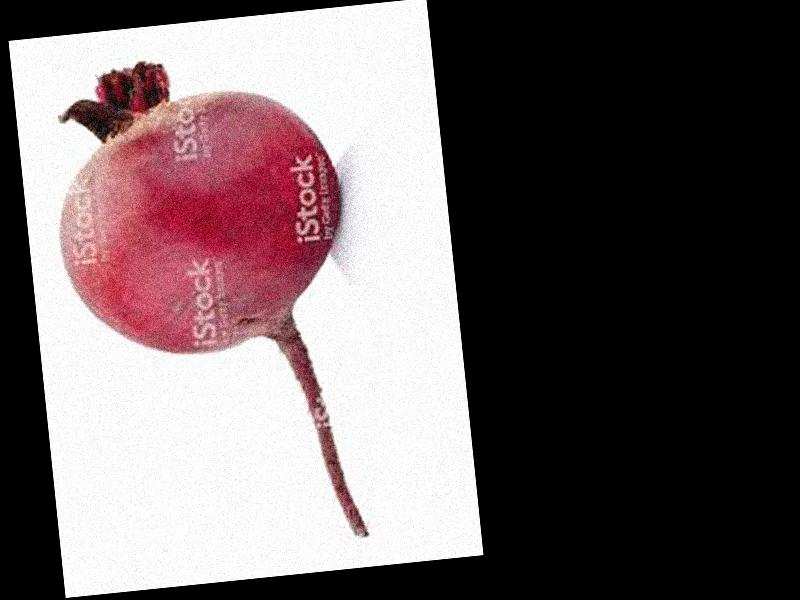Beet: (45, 44, 374, 562)
